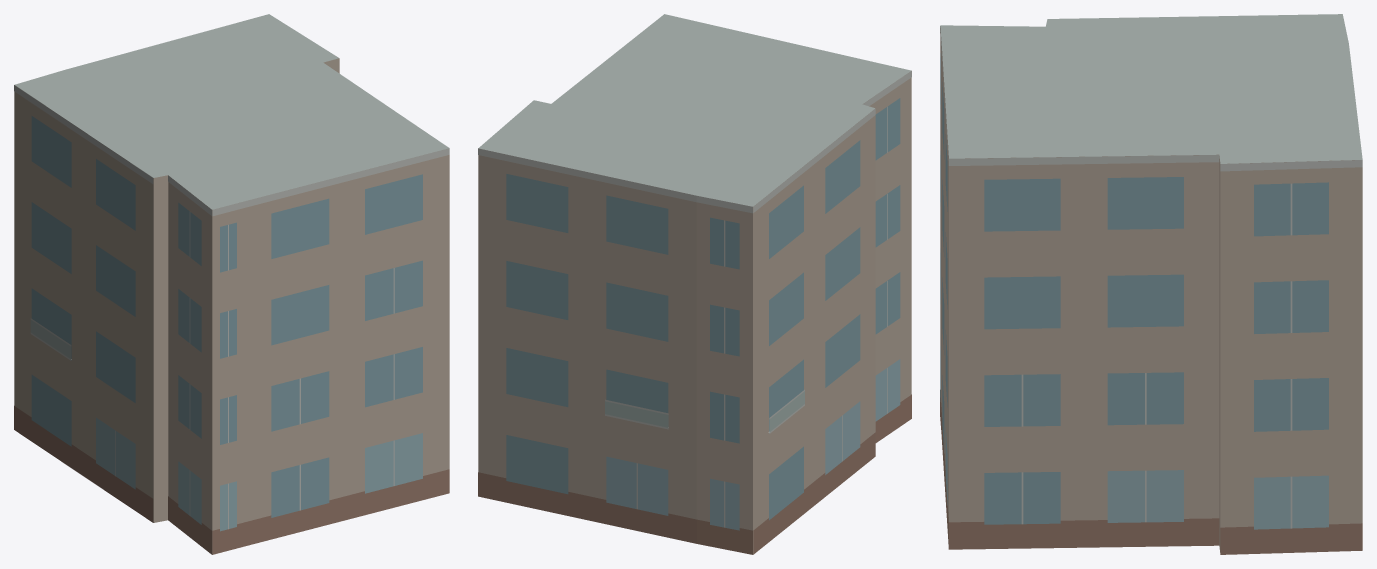
File: survey-upis-32926813.glb
3 renders of one model, left to right at view 1: azimuth 30°, elevation 25°; view 2: azimuth 150°, elevation 25°; view 3: azimuth 270°, elevation 25°, orthographic. The views are drawn at different scales.
Parts seen in each view (by area): view 1: survey-upis-32926813.tmp; view 2: survey-upis-32926813.tmp; view 3: survey-upis-32926813.tmp.
Boxes of the visible parts, x1,y1,x2,y2 form: survey-upis-32926813.tmp: (14, 14, 449, 554); survey-upis-32926813.tmp: (478, 14, 911, 554); survey-upis-32926813.tmp: (940, 14, 1362, 554).
Bounding box in the file's own units: 10.54 × 12.8 × 12.55.
